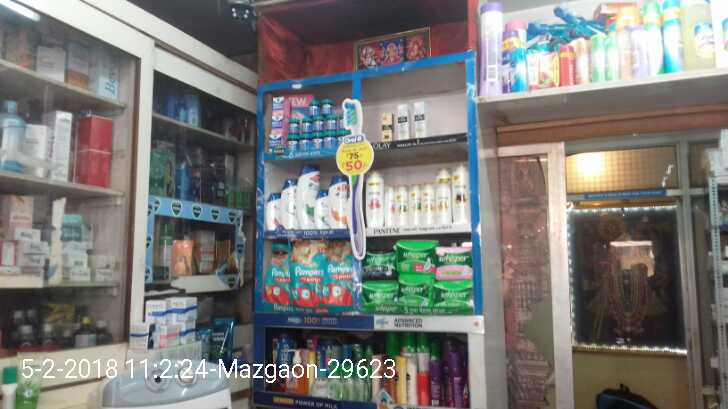beauty: (329, 177, 355, 225), (298, 162, 316, 228), (367, 172, 386, 230), (451, 168, 468, 230), (280, 180, 298, 230), (419, 180, 437, 229), (315, 187, 333, 231), (439, 176, 453, 228), (396, 182, 410, 230), (409, 185, 424, 227), (412, 100, 427, 139), (395, 102, 409, 140), (376, 112, 391, 140)
pharmacy: (289, 242, 325, 305), (328, 237, 354, 304), (396, 272, 436, 315), (265, 241, 291, 305), (396, 239, 435, 275), (433, 280, 477, 311), (435, 248, 471, 278), (365, 277, 396, 308), (365, 253, 393, 272), (262, 127, 283, 150), (267, 108, 286, 128), (300, 114, 312, 137), (306, 98, 319, 119), (284, 115, 301, 131), (271, 95, 286, 112), (325, 112, 337, 130), (321, 99, 332, 115), (315, 112, 323, 133)
